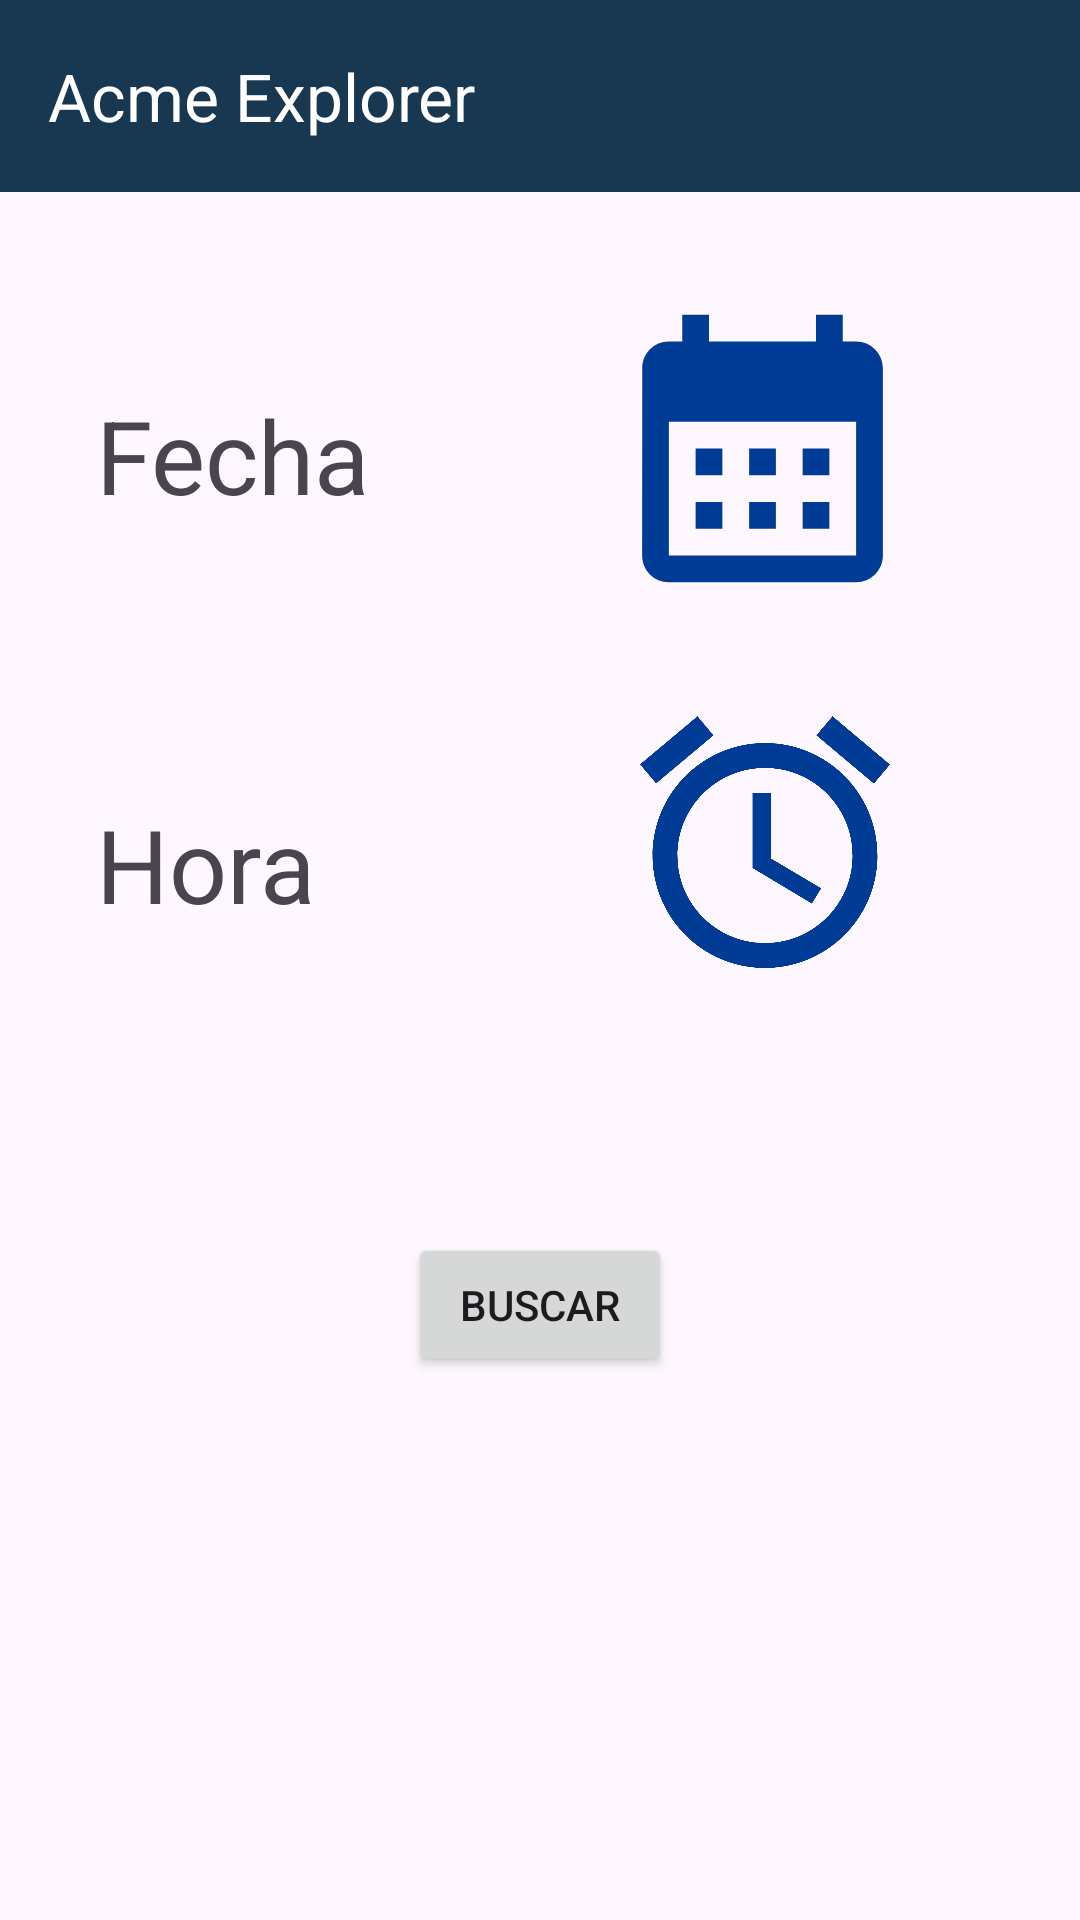

Icons on this 1080 × 1920 Android screen, each with its box as (x1, y1, x2, y2):
date: (642, 314, 883, 583)
watch: (640, 716, 890, 968)
